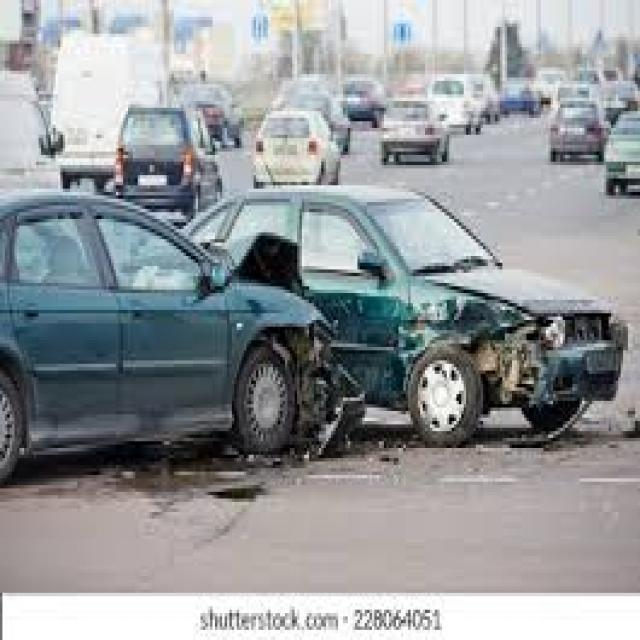accident: (0, 121, 594, 485)
